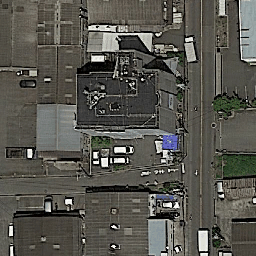car: (183, 34, 198, 64), (4, 146, 35, 160), (196, 227, 210, 256), (111, 144, 134, 156), (43, 194, 53, 214), (215, 180, 225, 200), (108, 156, 130, 165), (19, 79, 38, 89), (92, 151, 99, 165)
